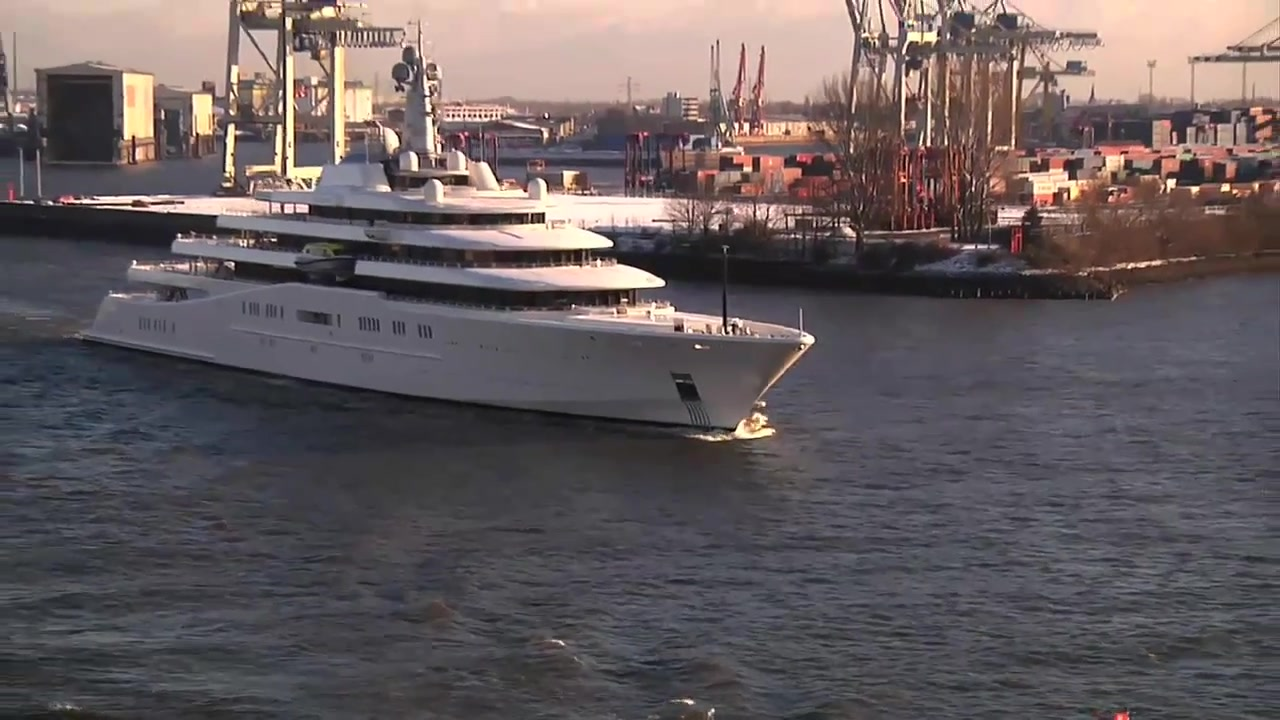boat: (76, 19, 818, 434)
